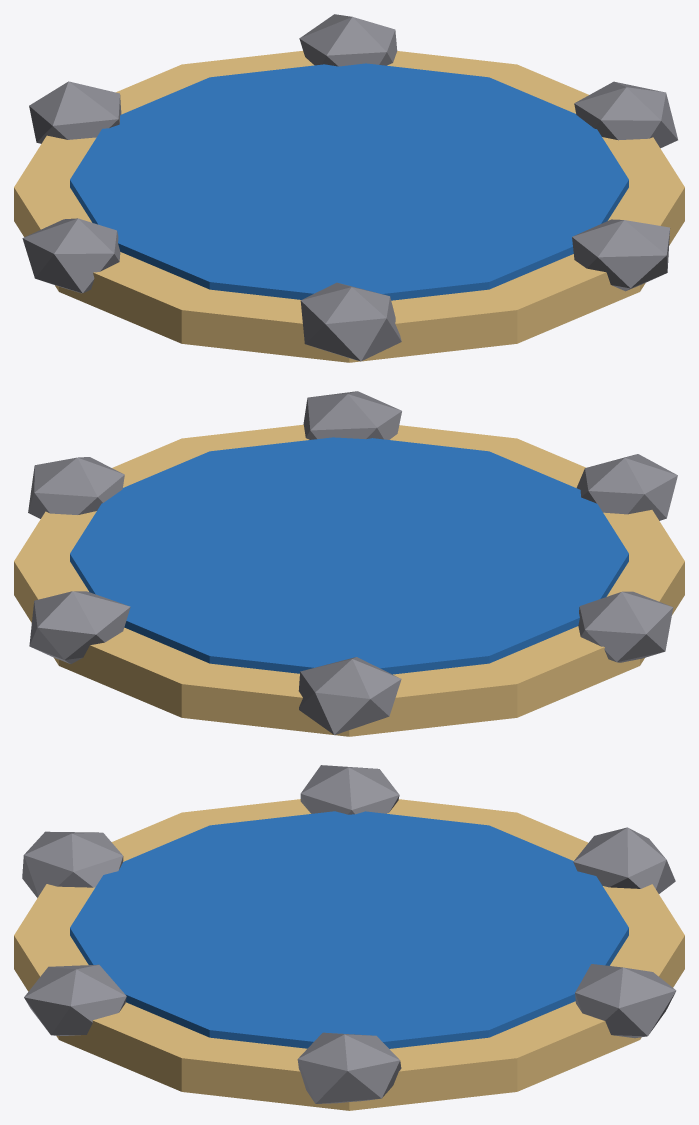
Rendered from oasis_pond.fbx.
3 renders of one model, top to bottom at view 1: azimuth 30°, elevation 25°; view 2: azimuth 150°, elevation 25°; view 3: azimuth 270°, elevation 25°, orthographic.
Visible parts, largest first — view 1: oasis_pond; view 2: oasis_pond; view 3: oasis_pond.
Part boxes in pixels (x1=…): oasis_pond: x1=14, y1=14, x2=684, y2=362; oasis_pond: x1=14, y1=391, x2=684, y2=736; oasis_pond: x1=14, y1=765, x2=684, y2=1110.
Bounding box in the file's own units: 3.91 × 0.458 × 3.6.
